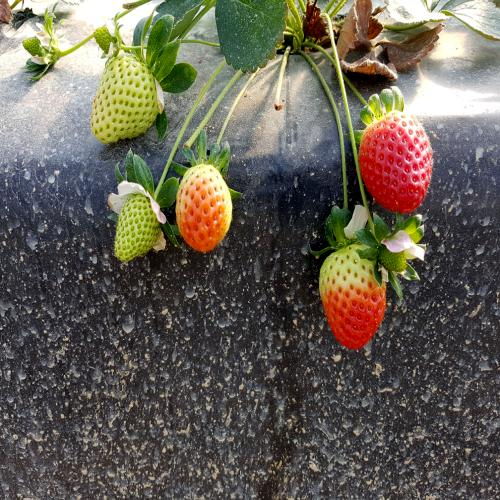partially-ripe: (318, 245, 390, 353), (173, 151, 236, 255)
ripe: (354, 103, 436, 224)
